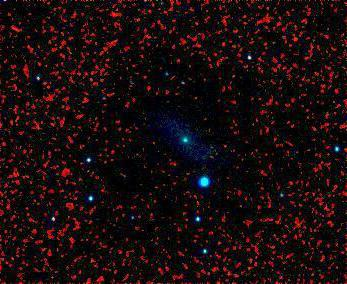star: (74, 156, 104, 186)
